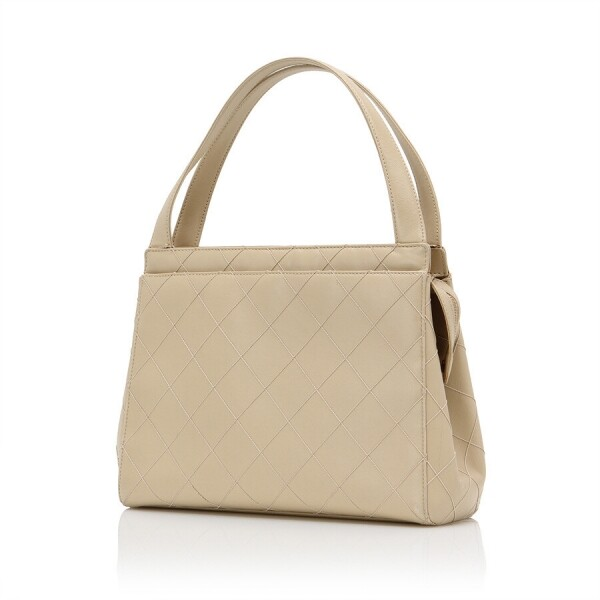channel: (90, 216, 496, 560), (218, 312, 378, 453)
